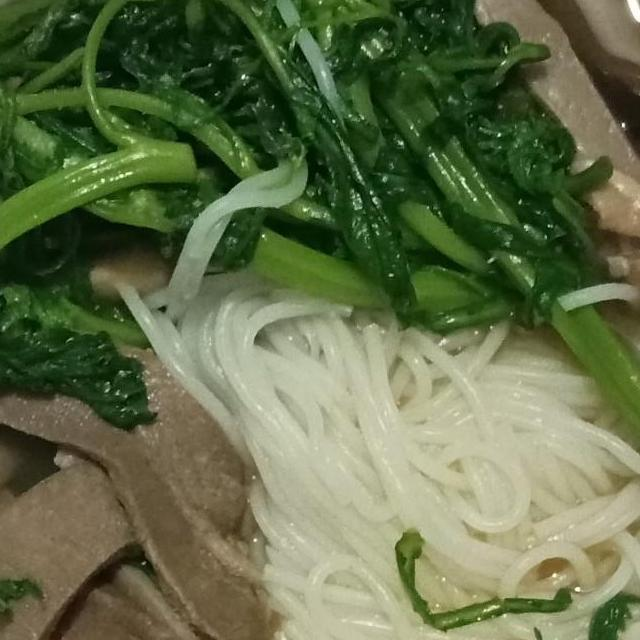bun: (216, 283, 640, 640)
